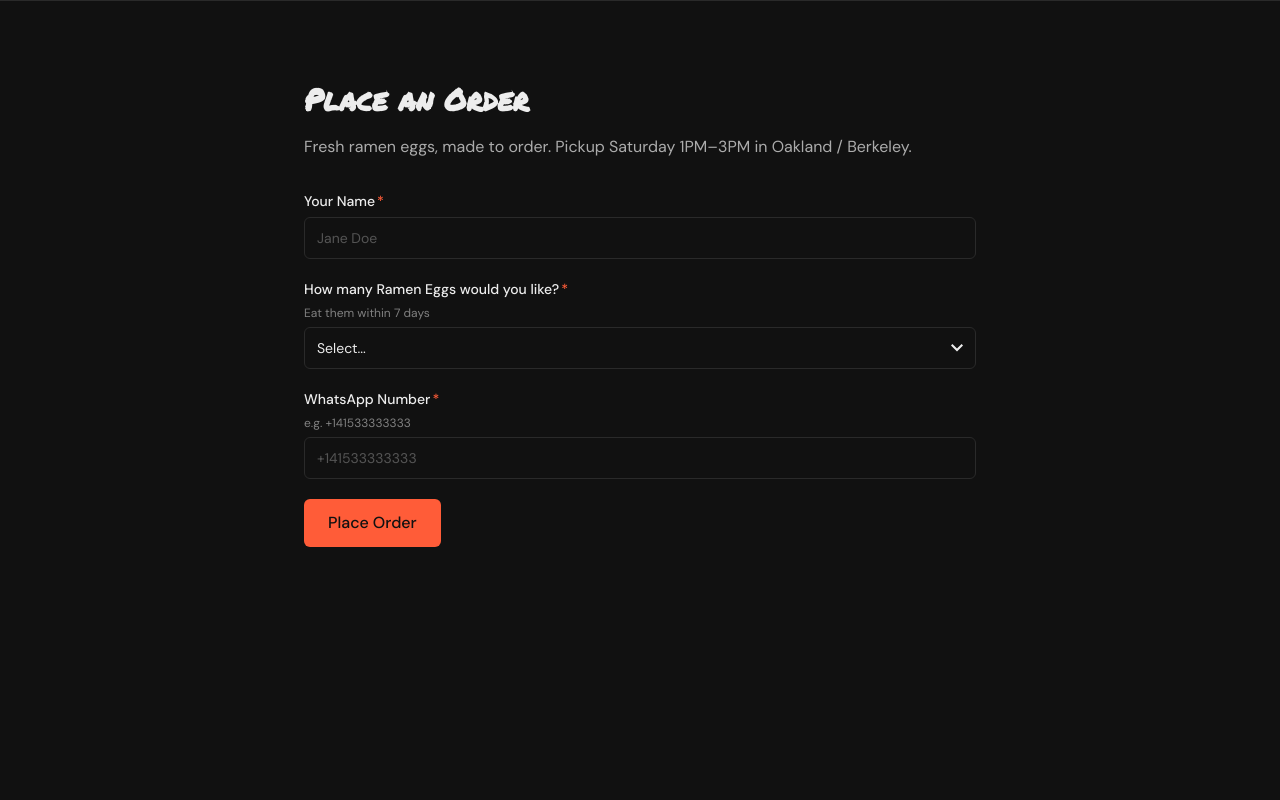
OrderForm — submission › shows loading state while submitting
The image size is (1280, 800).
Step 1. Type "Test User" into the field with placeholder "Jane Doe" → (640, 238), box [304,216,976,258]
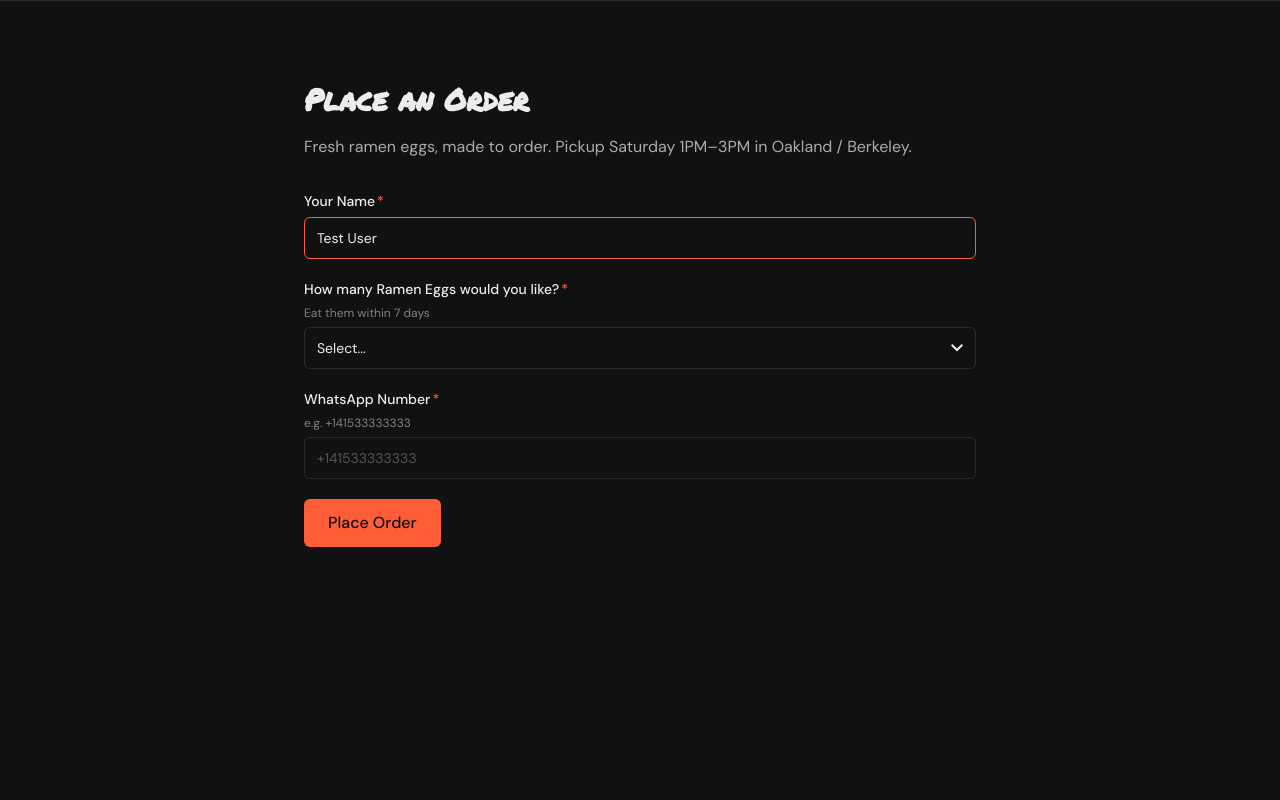
Step 2. Select "10" in the dropdown → (640, 348), box [304,326,976,368]
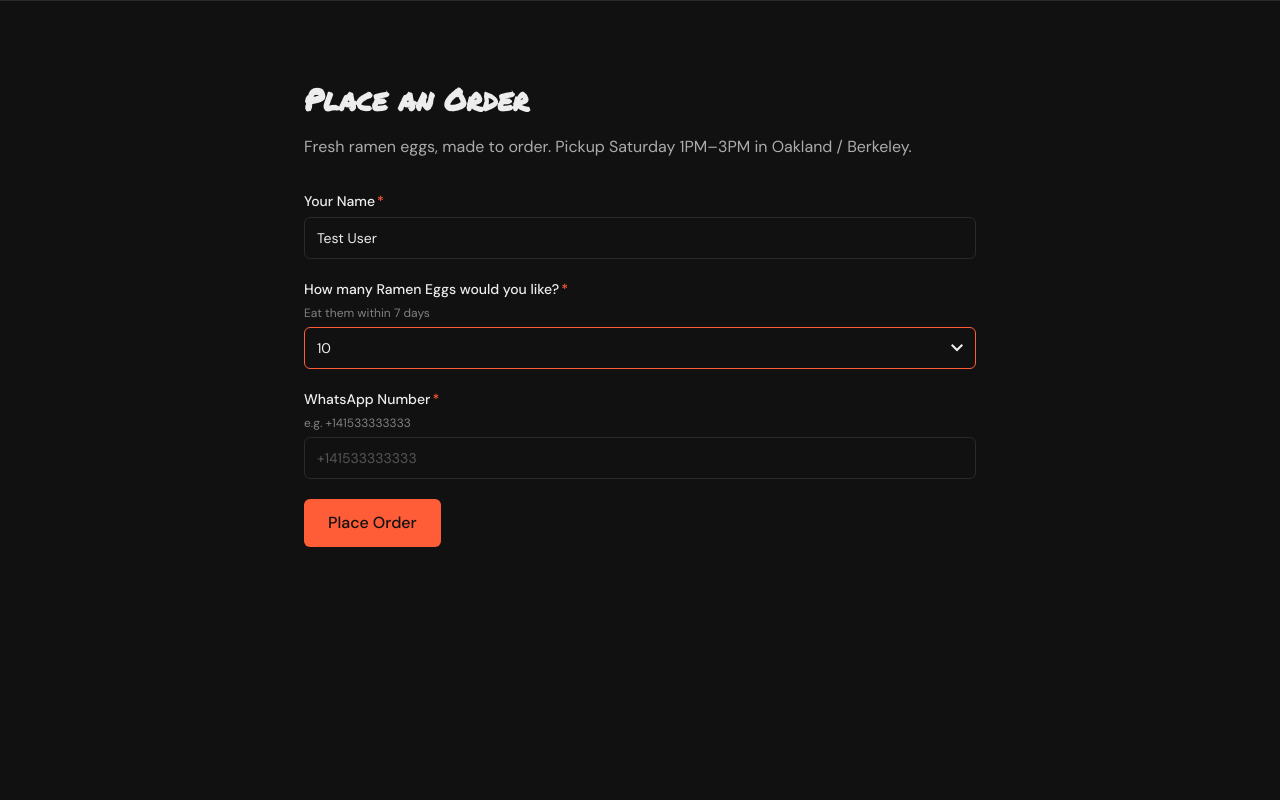
Step 3. Type "+14155551234" into the field with placeholder "+141533333333" → (640, 458), box [304,436,976,478]
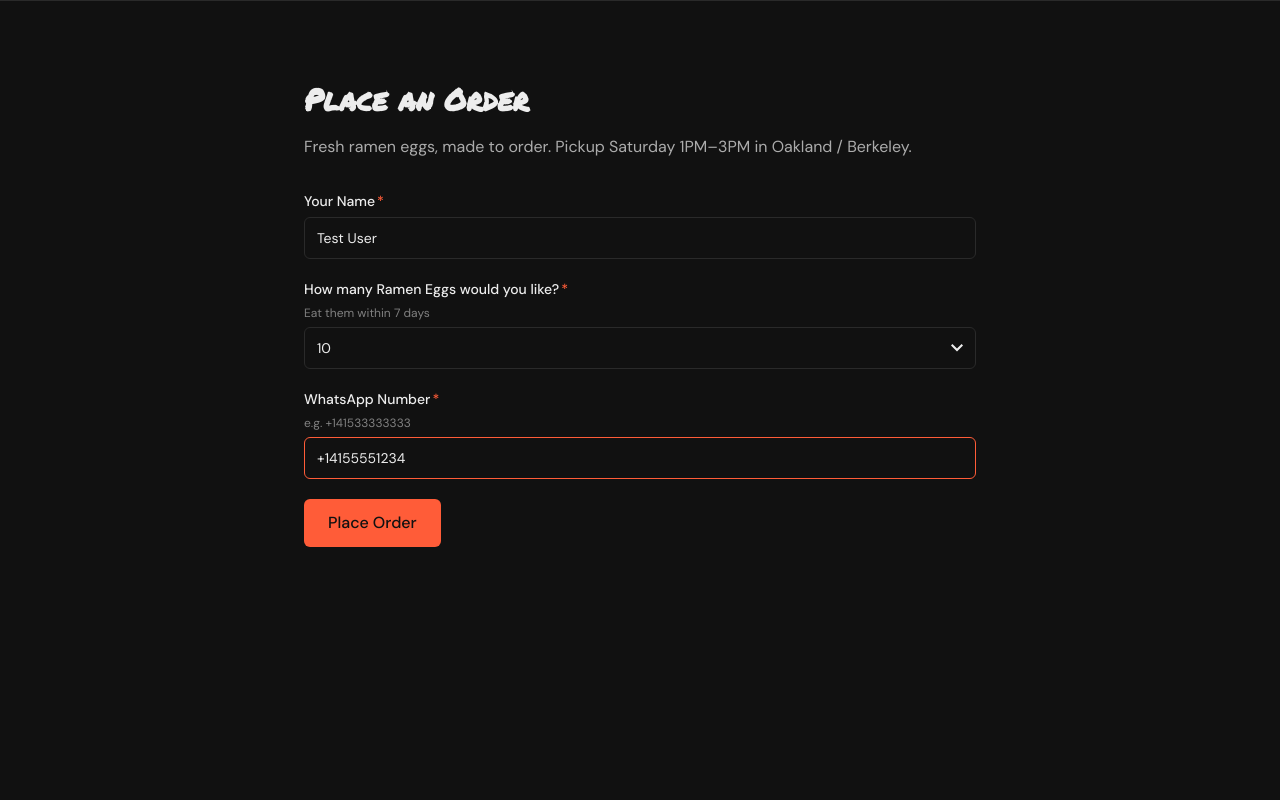
Step 4. Click the button "Place Order" → (372, 522), box [304,498,441,546]
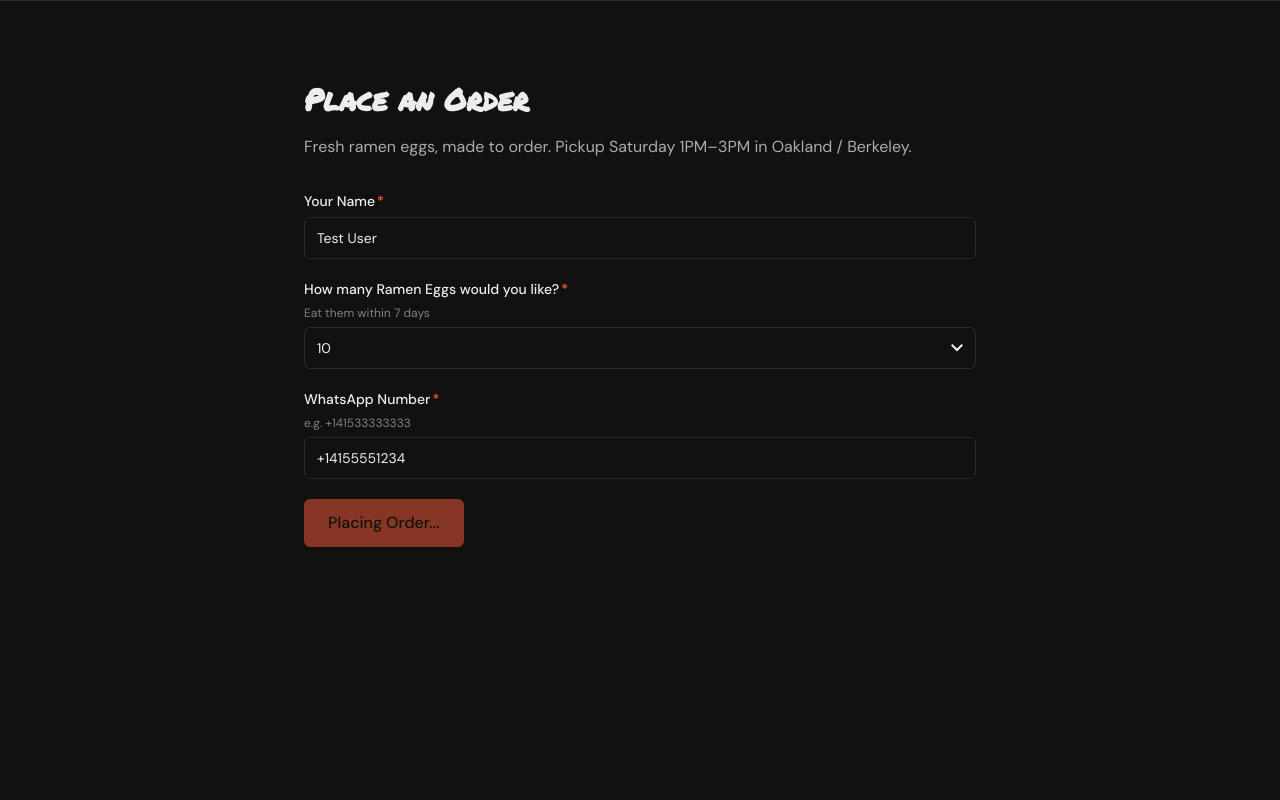
Expected: the button "Placing Order..." is disabled, [304,498,464,546]
